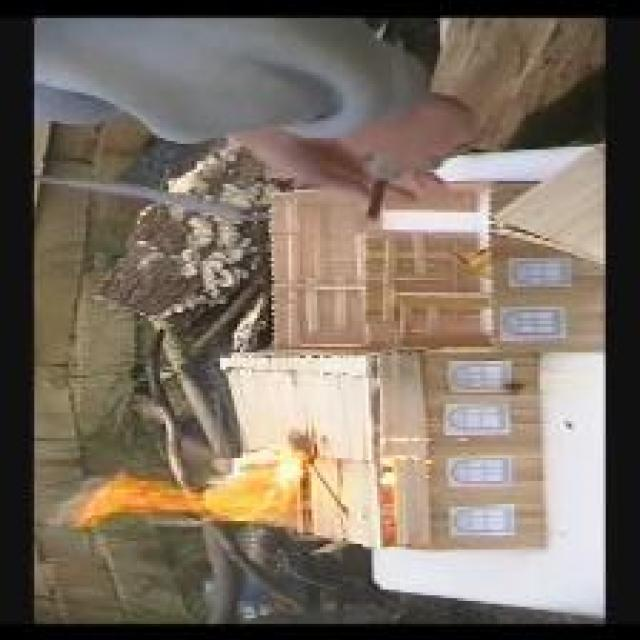Fire: (80, 448, 303, 532)
